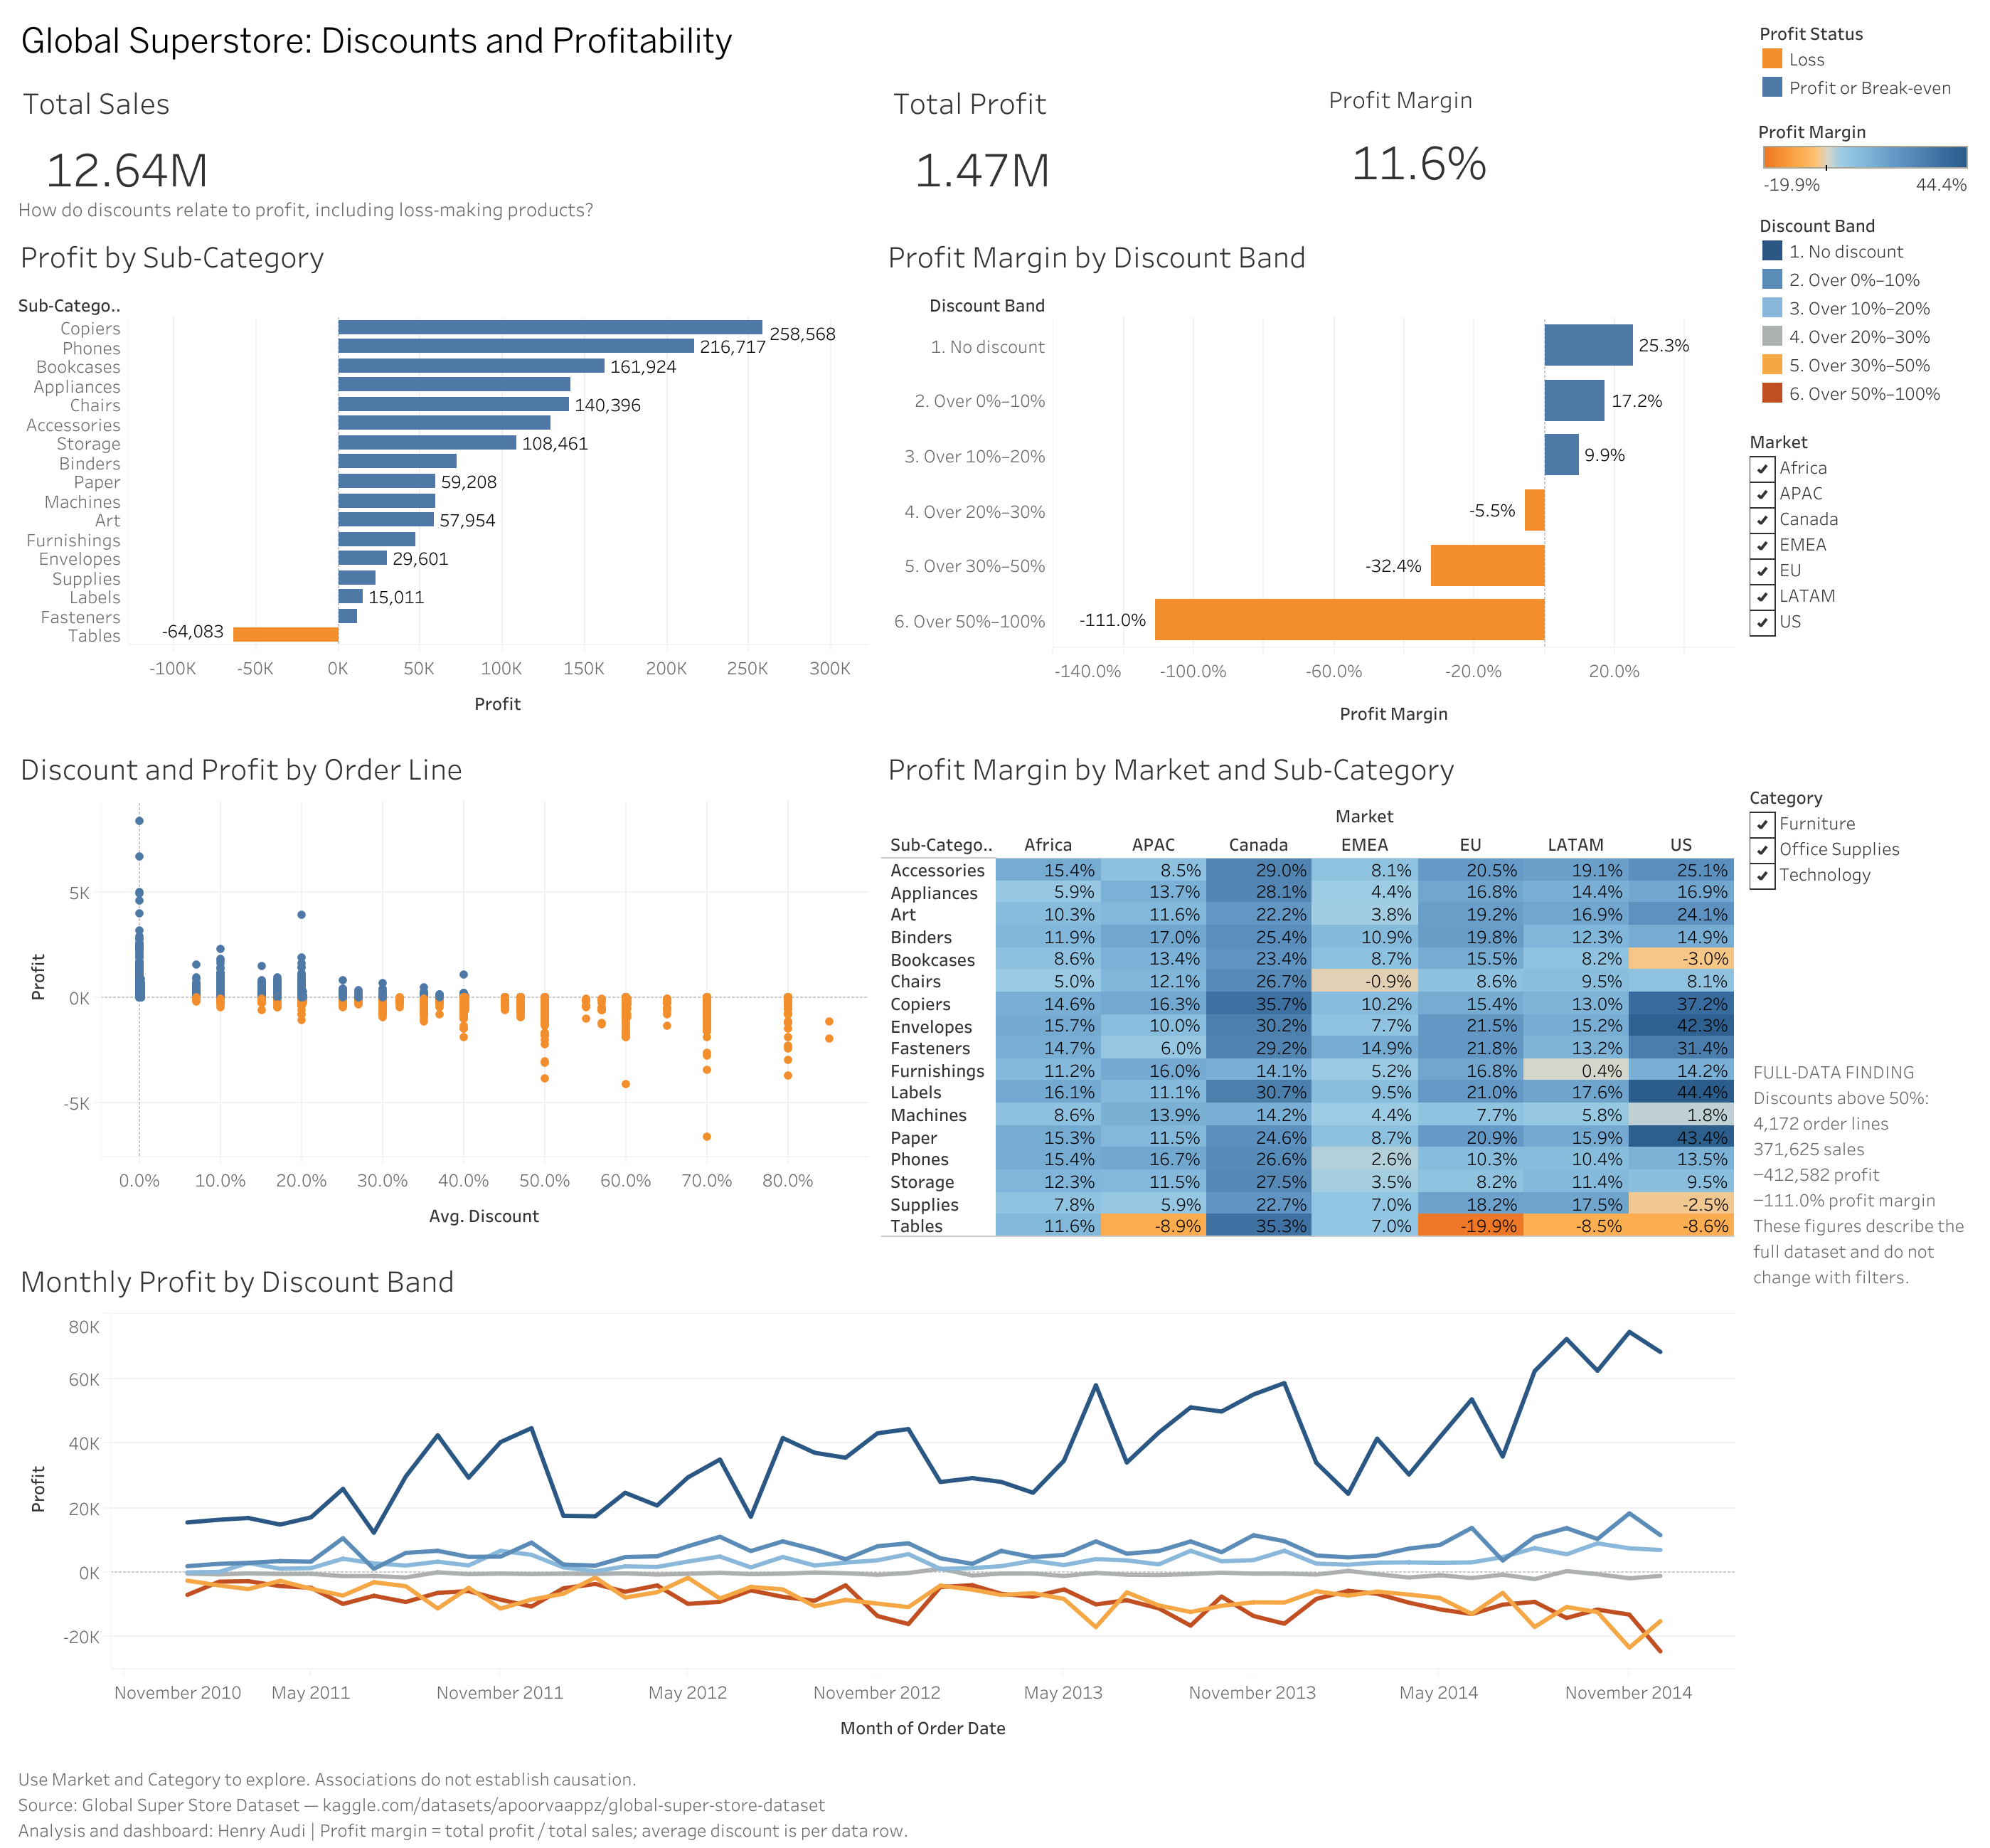

What the dashboard file says about the page in this screenshot:
{"tool":"tableau","page":{"name":"Discounts and Profitability","canvas":[1400,1300],"ordinal":0},"visuals":[{"type":"title","box":[8,8,1224,39]},{"type":"legend","title":"Profit by Sub-Category","param":"[federated.0hhcszr1y865xa156evqa1bap6nc].[usr:Calculation_3875215101255683:nk]","box":[1232,8,160,66]},{"type":"worksheet","title":"KPI – Total Sales","mark":"Automatic","box":[8,47,612,1245]},{"type":"worksheet","title":"KPI – Total Profit","mark":"Automatic","box":[620,47,306,1245]},{"type":"worksheet","title":"KPI – Profit Margin","mark":"Automatic","box":[926,47,306,1245]},{"type":"legend","title":"Profit Margin by Market and Sub-Category","param":"[federated.0hhcszr1y865xa156evqa1bap6nc].[usr:Calculation_3875215099113473:qk]","box":[1232,74,160,65]},{"type":"text","box":[10,135,1210,22]},{"type":"legend","title":"Monthly Profit by Discount Band","param":"[federated.0hhcszr1y865xa156evqa1bap6nc].[none:Calculation_3875215103918084:nk]","box":[1232,139,160,146]},{"type":"worksheet","title":"Profit by Sub-Category","mark":"Automatic","rows":["Sub-Category"],"cols":["Profit"],"box":[10,160,600,350]},{"type":"worksheet","title":"Profit Margin by Discount Band","mark":"Bar","rows":["Calculation_3875215103918084"],"cols":["Calculation_3875215099113473"],"box":[620,160,600,350]},{"type":"filter","title":"Profit by Sub-Category","param":"[federated.0hhcszr1y865xa156evqa1bap6nc].[none:Market:nk]","box":[1230,300,160,240]},{"type":"worksheet","title":"Discount and Profit by Order Line","mark":"Circle","rows":["Profit"],"cols":["Discount"],"box":[10,520,600,350]},{"type":"worksheet","title":"Profit Margin by Market and Sub-Category","mark":"Square","rows":["Sub-Category"],"cols":["Market"],"box":[620,520,600,350]},{"type":"filter","title":"Profit by Sub-Category","param":"[federated.0hhcszr1y865xa156evqa1bap6nc].[none:Category:nk]","box":[1230,550,160,140]},{"type":"text","box":[1230,710,160,230]},{"type":"worksheet","title":"Monthly Profit by Discount Band","mark":"Line","rows":["Profit"],"cols":["Order Date"],"box":[10,880,1210,350]},{"type":"text","box":[10,1240,1210,55]}]}

Visuals, with their boxes in screenshot pixels (x1, y1, x2, y2), scaled from the page's 1400x1300 canvas onto the 1990x1848 screenshot:
title: (11,11,1751,67)
"Profit by Sub-Category" legend: (1751,11,1979,105)
"KPI – Total Sales" worksheet: (11,67,881,1837)
"KPI – Total Profit" worksheet: (881,67,1316,1837)
"KPI – Profit Margin" worksheet: (1316,67,1751,1837)
"Profit Margin by Market and Sub-Category" legend: (1751,105,1979,198)
text: (14,192,1734,223)
"Monthly Profit by Discount Band" legend: (1751,198,1979,405)
"Profit by Sub-Category" worksheet: (14,228,867,725)
"Profit Margin by Discount Band" worksheet (Bar marks): (881,228,1734,725)
"Profit by Sub-Category" filter: (1748,427,1976,768)
"Discount and Profit by Order Line" worksheet (Circle marks): (14,739,867,1237)
"Profit Margin by Market and Sub-Category" worksheet (Square marks): (881,739,1734,1237)
"Profit by Sub-Category" filter: (1748,782,1976,981)
text: (1748,1009,1976,1337)
"Monthly Profit by Discount Band" worksheet (Line marks): (14,1251,1734,1748)
text: (14,1763,1734,1841)
